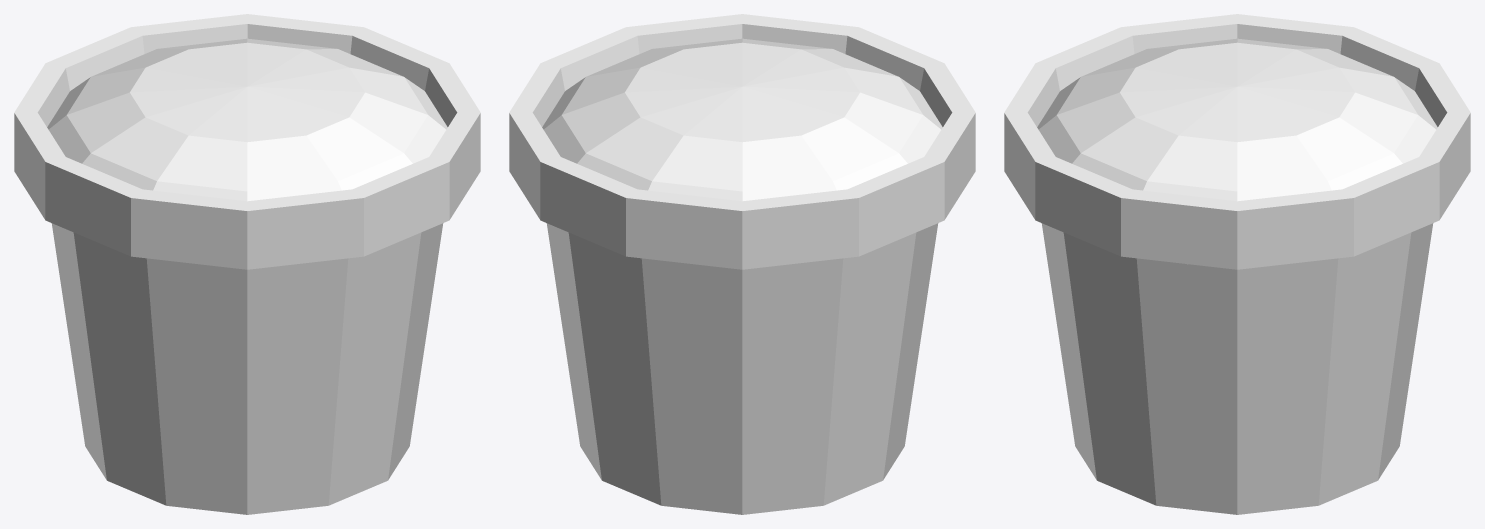
File: Prop_Flowerpot_02.glb
3 views of the same model, side by side, from view 1: azimuth 30°, elevation 25°; view 2: azimuth 150°, elevation 25°; view 3: azimuth 270°, elevation 25° (orthographic).
Visible parts, largest first — view 1: Prop_Flowerpot_02; view 2: Prop_Flowerpot_02; view 3: Prop_Flowerpot_02.
Boxes of the visible parts, x1,y1,x2,y2 form: Prop_Flowerpot_02: [14, 14, 480, 514]; Prop_Flowerpot_02: [509, 14, 975, 514]; Prop_Flowerpot_02: [1004, 14, 1470, 514].
Bounding box in the file's own units: 0.19 × 0.1616 × 0.19.
Materials: 1 (1 with a texture image).
